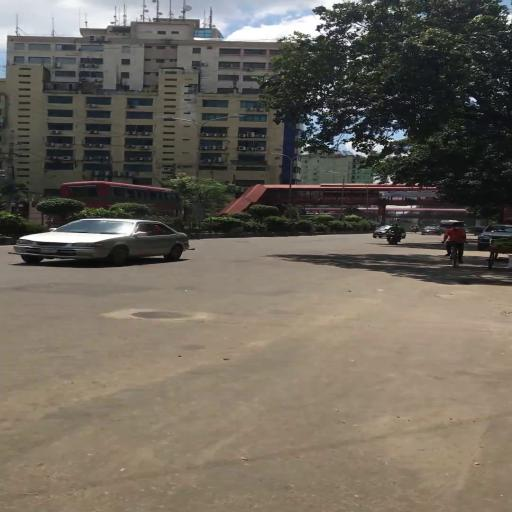bicycle: (441, 222, 467, 268)
car: (10, 218, 195, 267), (374, 226, 407, 238), (422, 226, 442, 236)
minivan: (477, 224, 511, 250)
motorbike: (383, 223, 406, 247)
